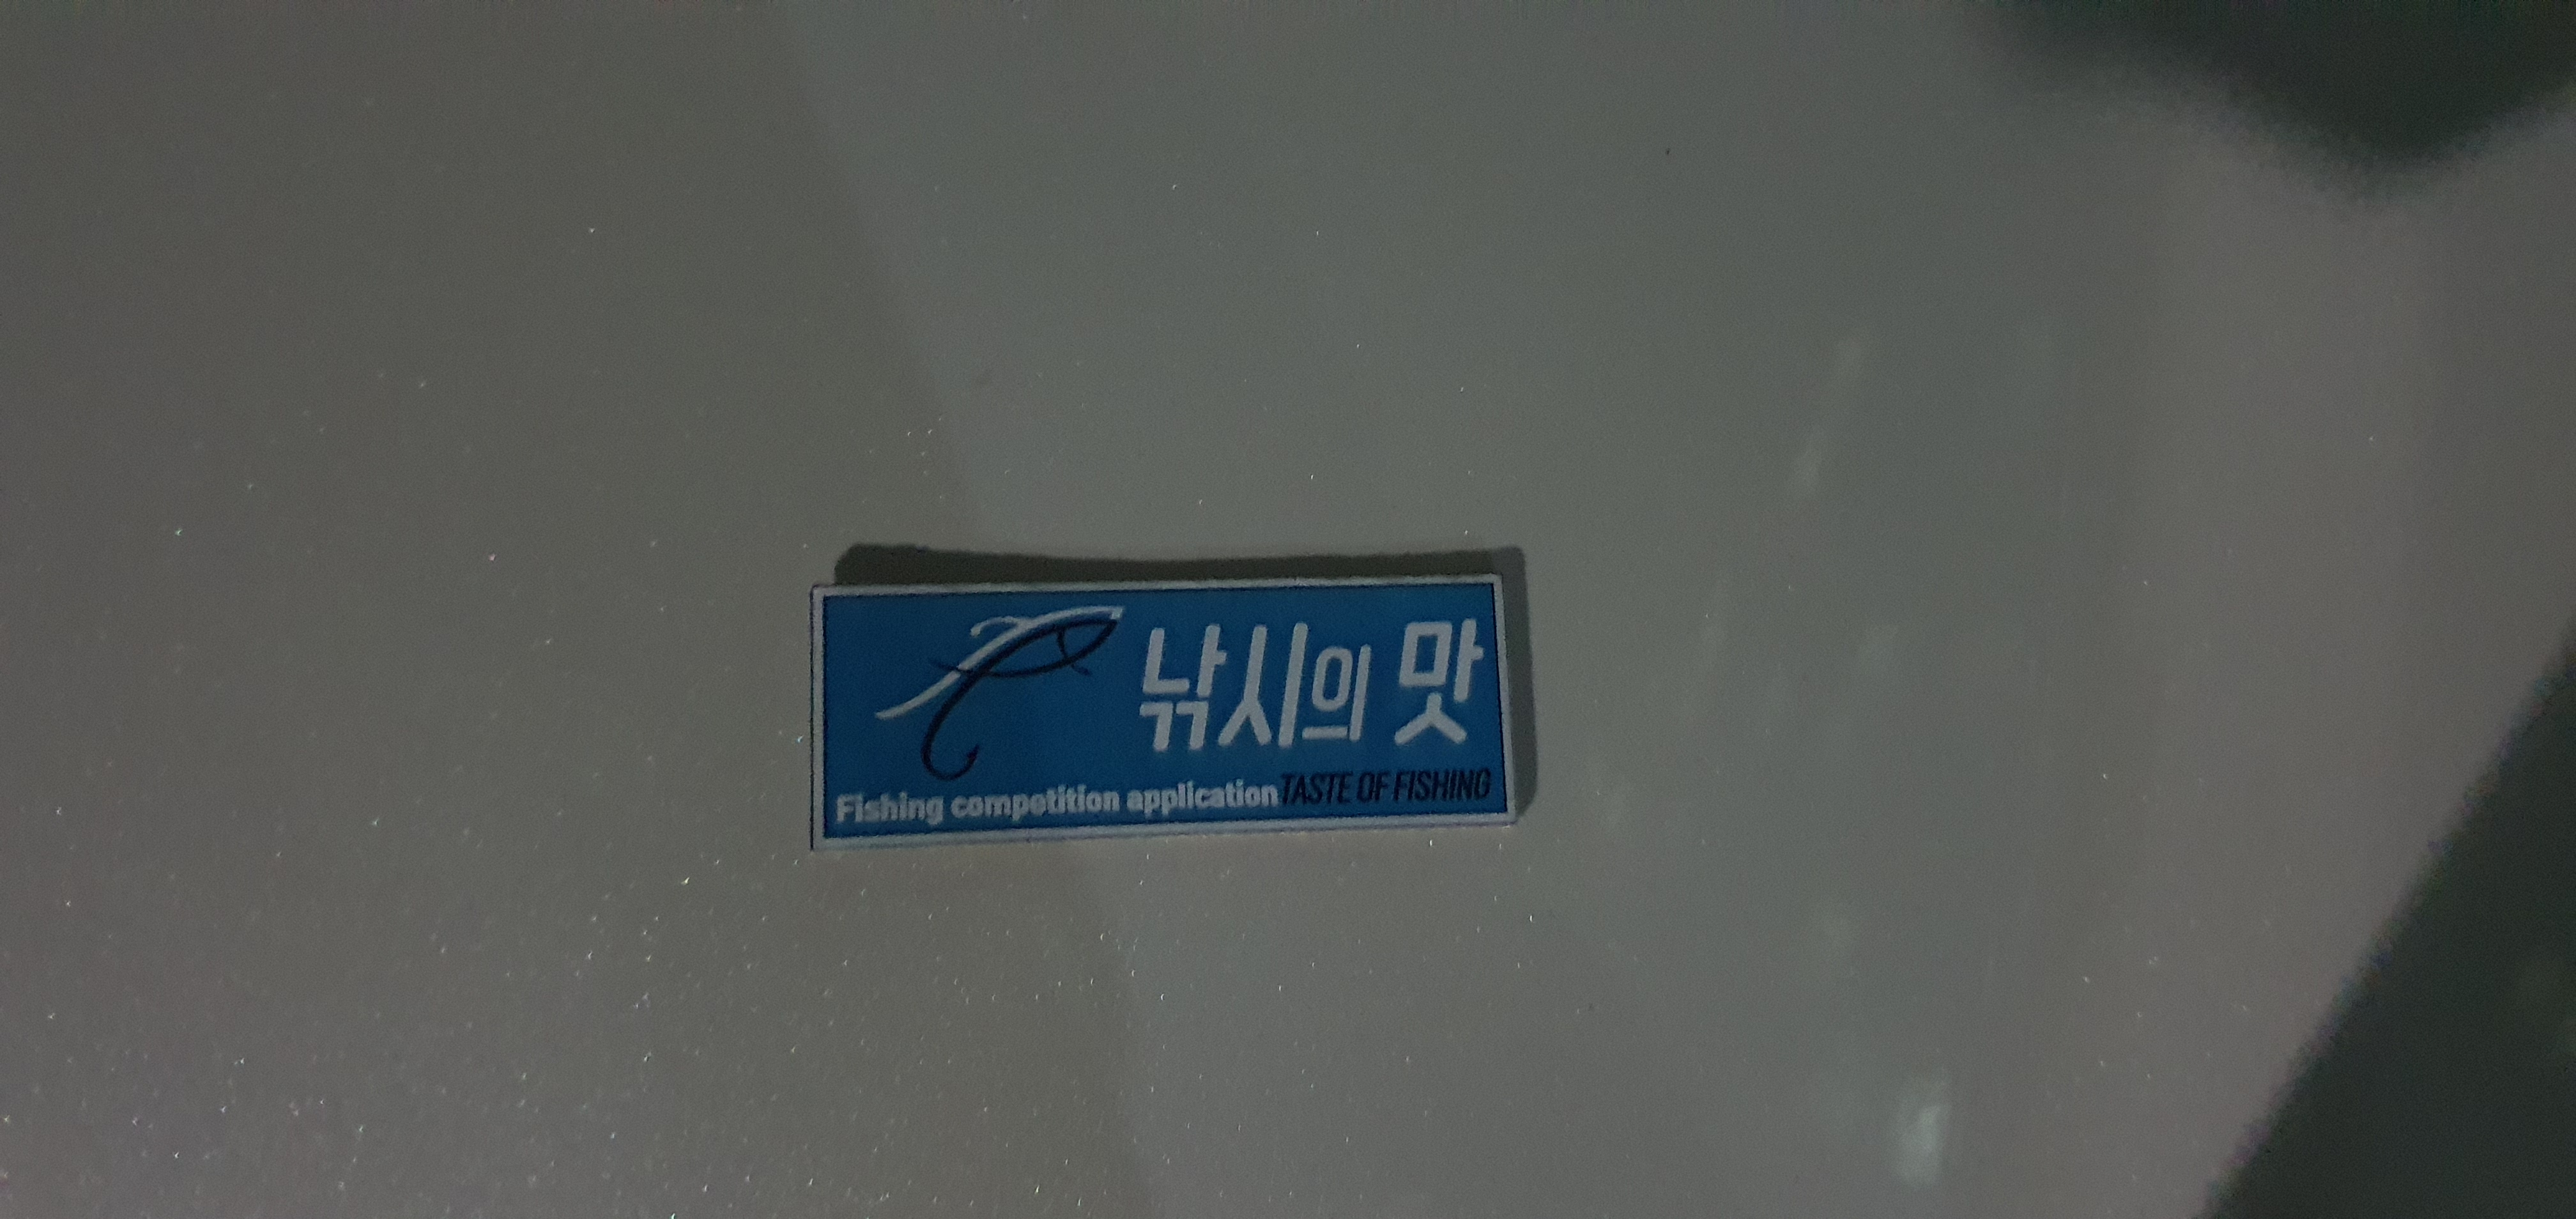tag: (810, 577, 1518, 828)
